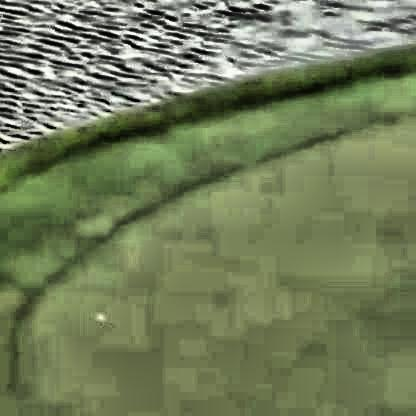golfball: (92, 309, 105, 320)
